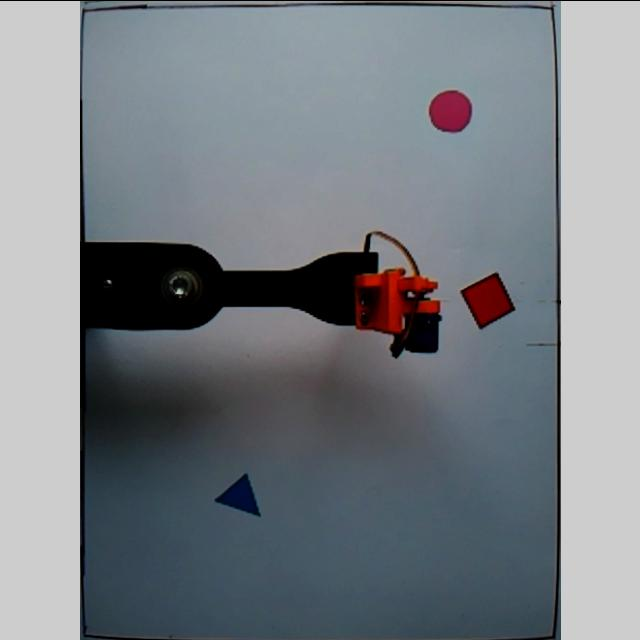blueTriangle: (214, 470, 262, 516)
pinkCircle: (428, 88, 472, 134)
redSquare: (456, 272, 516, 328)
